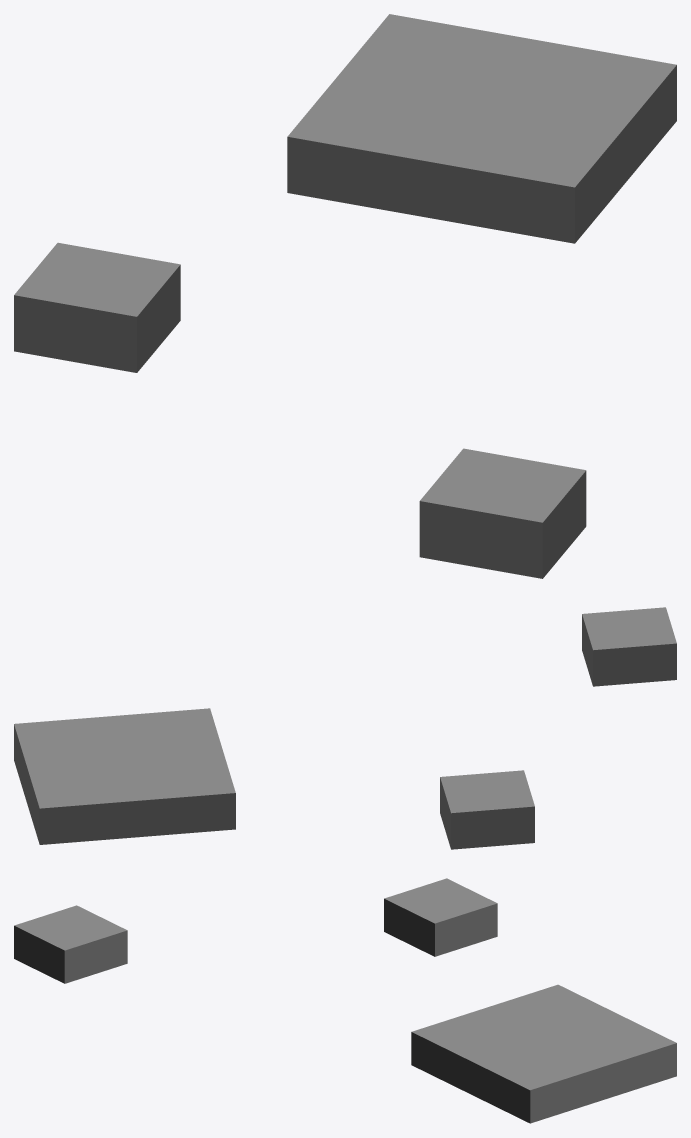
File: rubble_02.fbx
The picture shows the model from 3 angles, top to bottom: view 1: azimuth 30°, elevation 25°; view 2: azimuth 150°, elevation 25°; view 3: azimuth 270°, elevation 25°; orthographic projection. The views are drawn at different scales.
Visible parts, largest first — view 1: rubble_02; view 2: rubble_02; view 3: rubble_02.
Part boxes in pixels (x1=…): rubble_02: x1=14, y1=14, x2=676, y2=578; rubble_02: x1=14, y1=607, x2=676, y2=849; rubble_02: x1=14, y1=878, x2=676, y2=1123.
Bounding box in the file's own units: 3.62 × 0.2654 × 4.79.
1 material, 1 textured.
